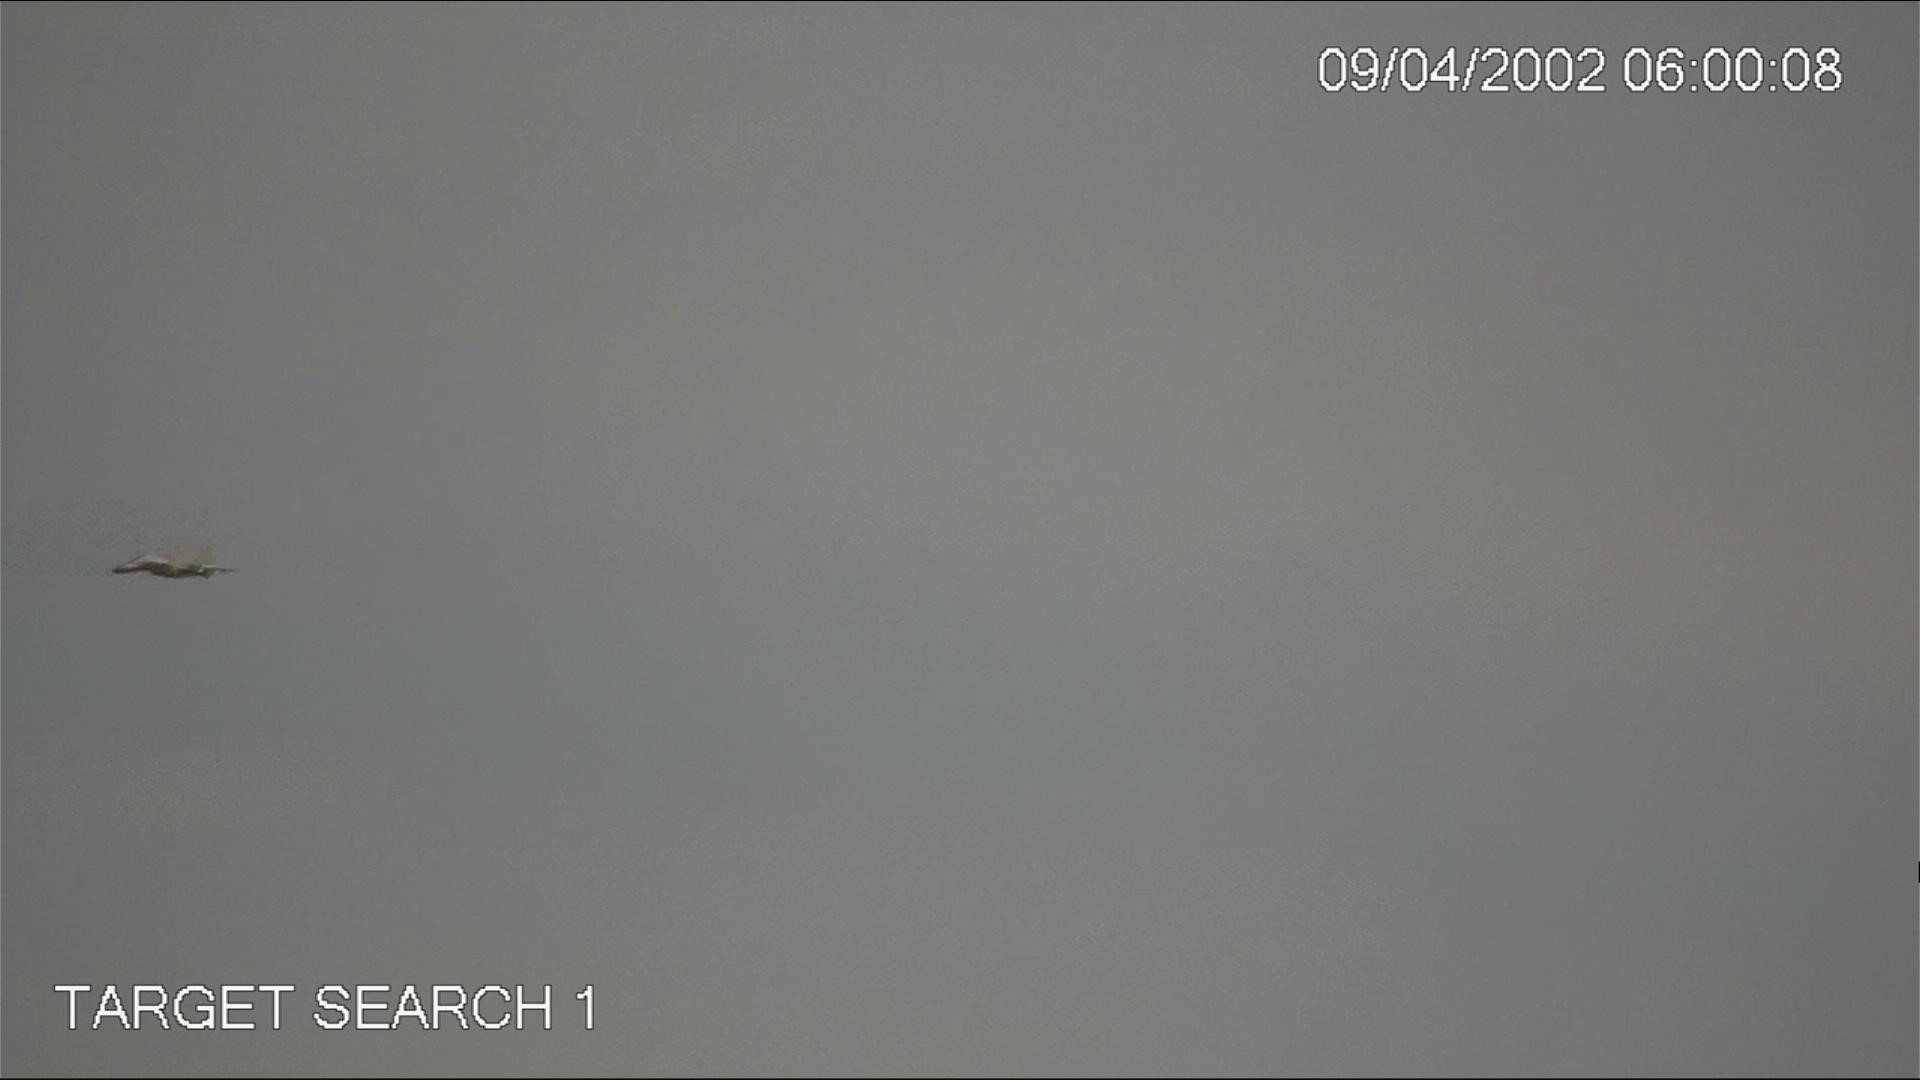SU_30: (104, 541, 229, 579)
